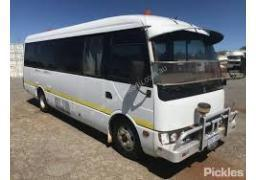bus: (20, 9, 229, 170)
